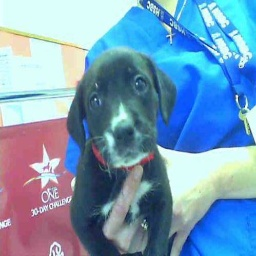dog: (62, 45, 188, 256)
